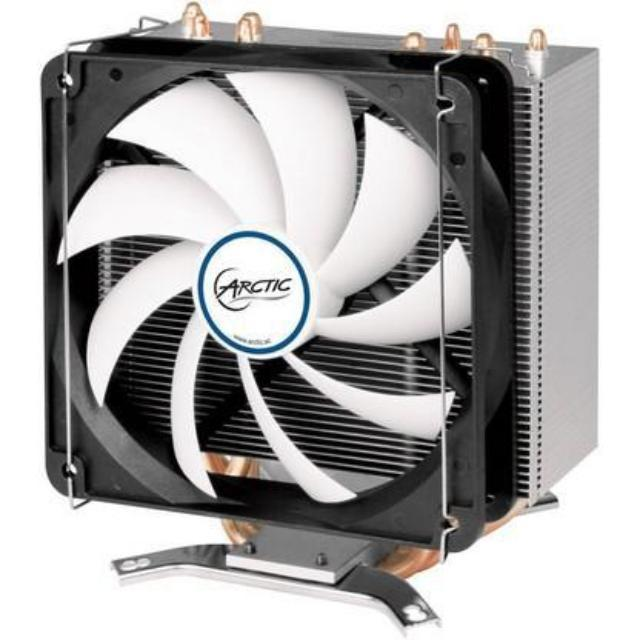CPU_Fan: (45, 0, 600, 629)
